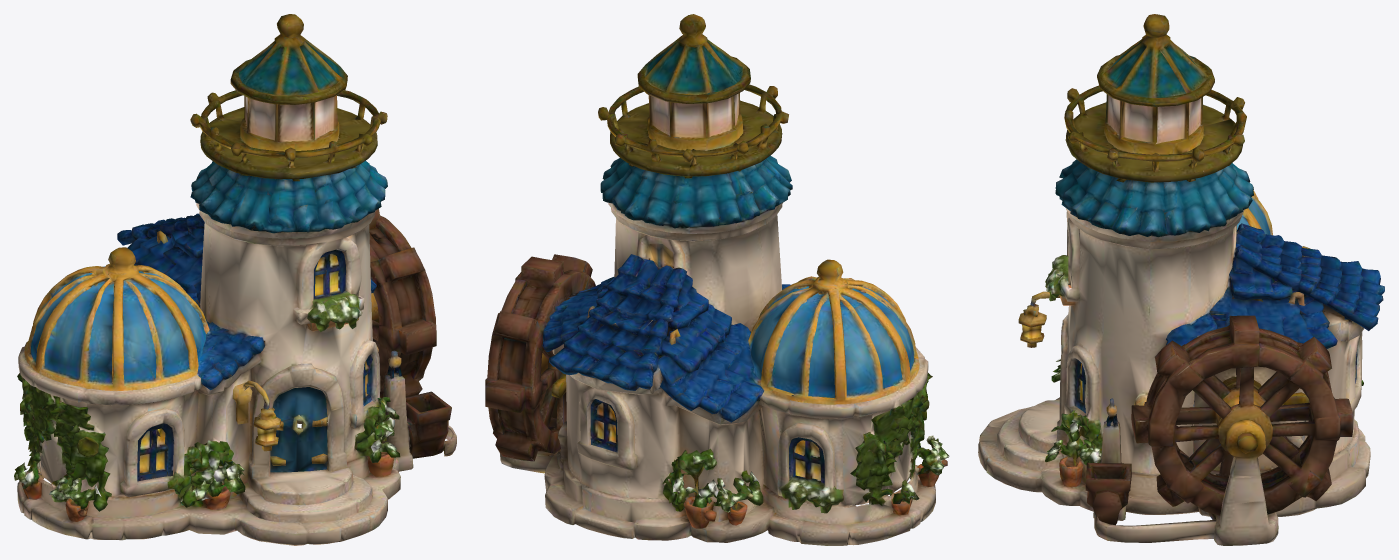
3 views of the same model, side by side, from view 1: azimuth 30°, elevation 25°; view 2: azimuth 150°, elevation 25°; view 3: azimuth 270°, elevation 25° (orthographic). The views are drawn at different scales.
Visible parts, largest first — view 1: harbor__lighthouse__neural_lod, harbor__lighthouse__neural_lantern; view 2: harbor__lighthouse__neural_lod; view 3: harbor__lighthouse__neural_lod, harbor__lighthouse__neural_lantern.
Part boxes in pixels (<box>): harbor__lighthouse__neural_lod: <box>14,14,456,545</box>; harbor__lighthouse__neural_lantern: <box>253,400,280,451</box>; harbor__lighthouse__neural_lod: <box>485,14,949,545</box>; harbor__lighthouse__neural_lod: <box>978,14,1384,545</box>; harbor__lighthouse__neural_lantern: <box>1018,299,1046,347</box>.
Bounding box in the file's own units: 0.9217 × 0.9999 × 0.7977.
1 material, 1 textured.
